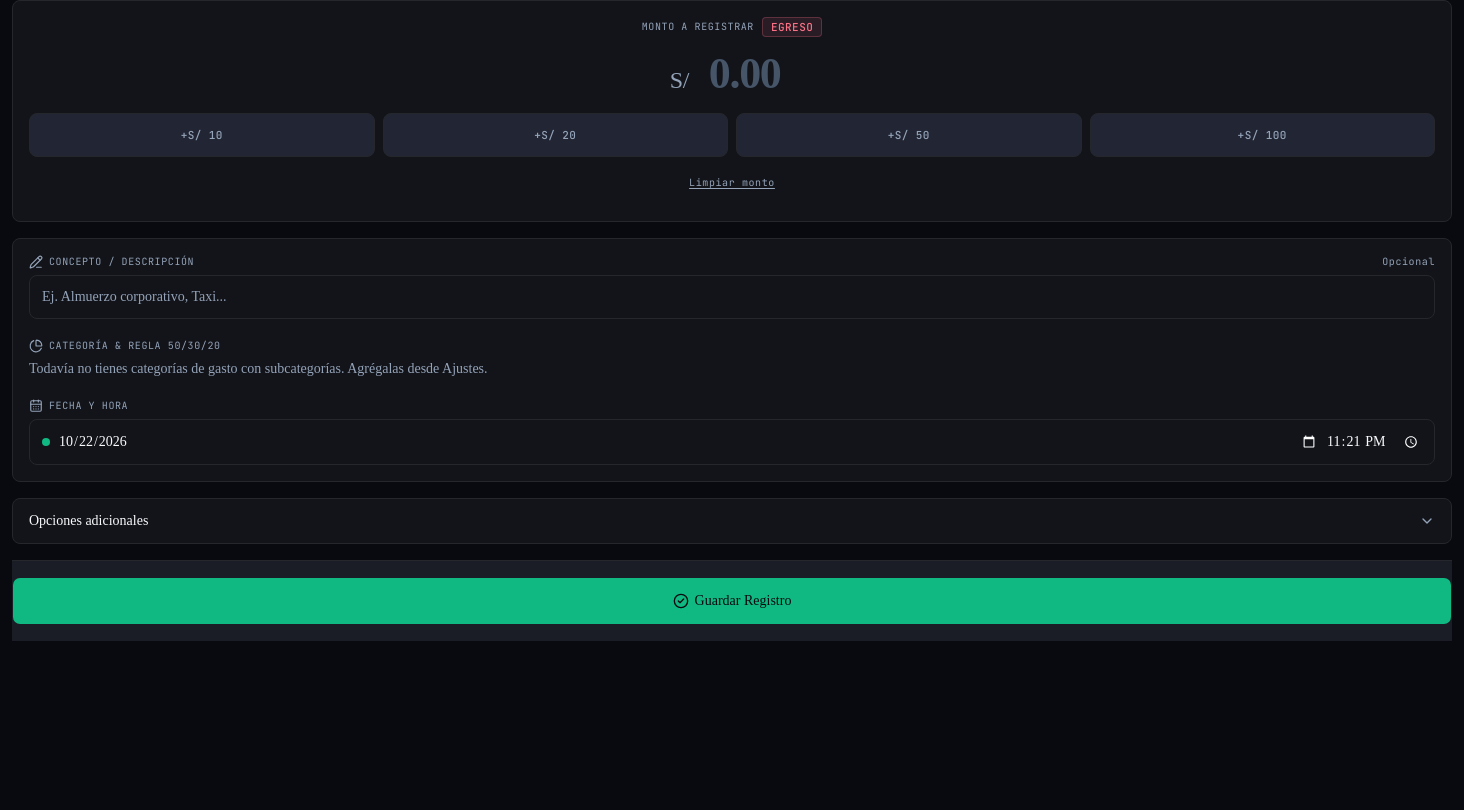
Test: MovementForm › quick record redesign (spec 010) › explains what is missing instead of saving an expense without a category
Expected: the text "Todavía no tienes categorías de gasto" is shown, [29, 361, 488, 376]
Type "9" into the field named "Monto". click: (745, 73)
box: [695, 45, 794, 101]
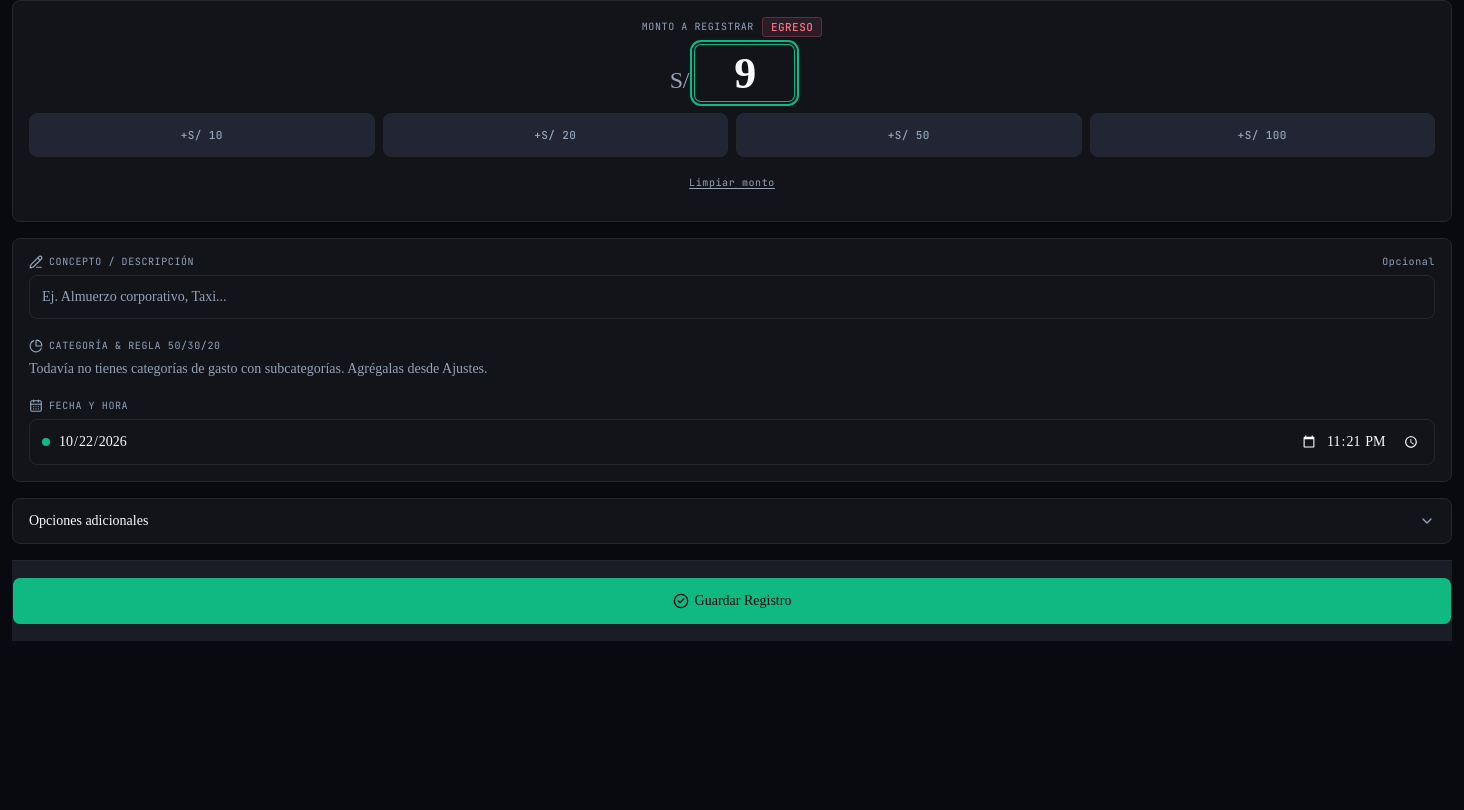
Submit the form with test id "movement-form"
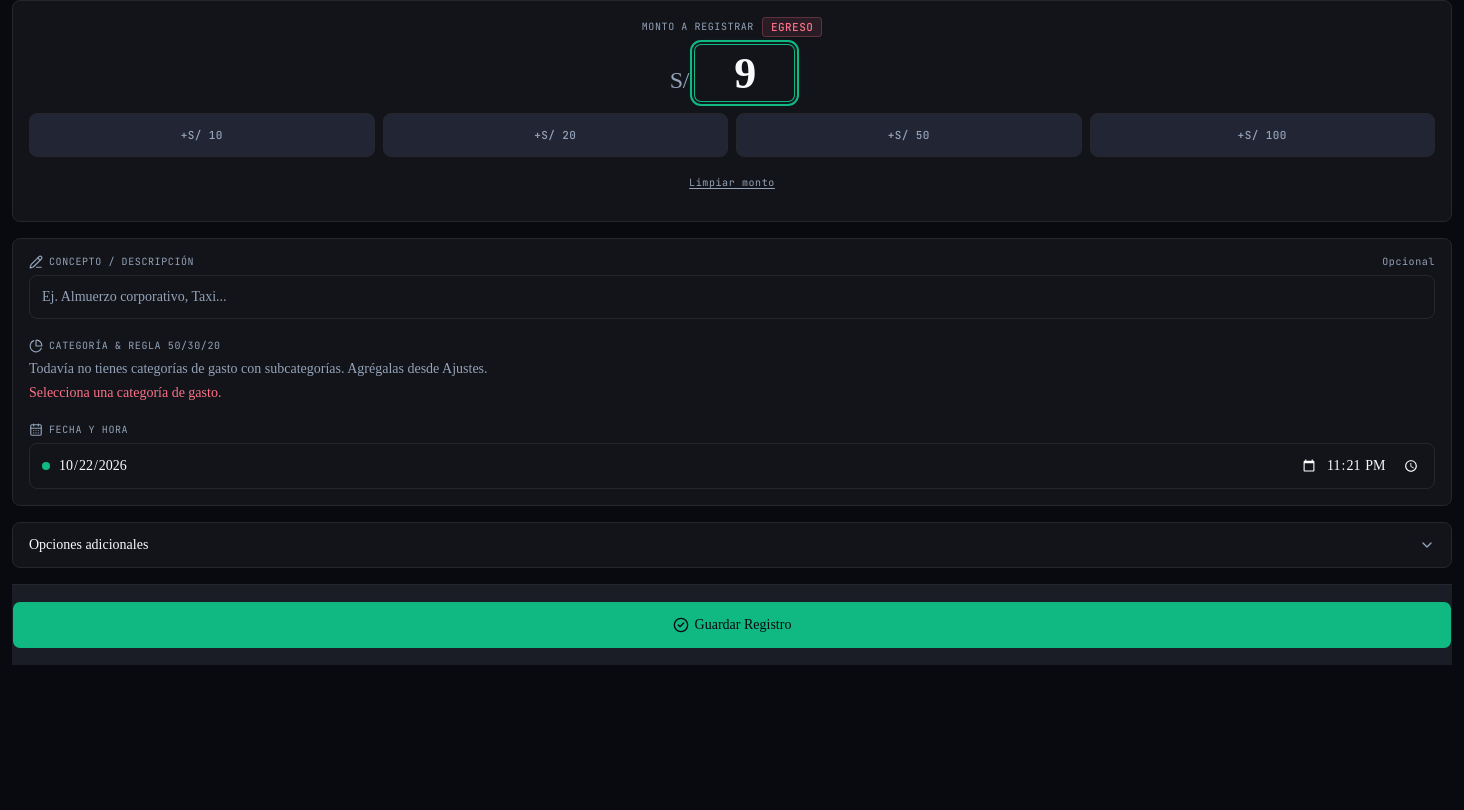
Expected: the text "Selecciona una categoría de gasto." is shown, [29, 385, 221, 400]
